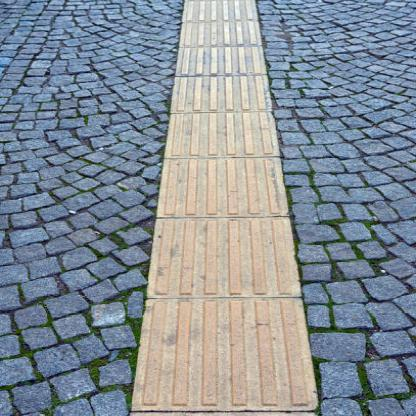podotacti: (68, 0, 353, 416)
